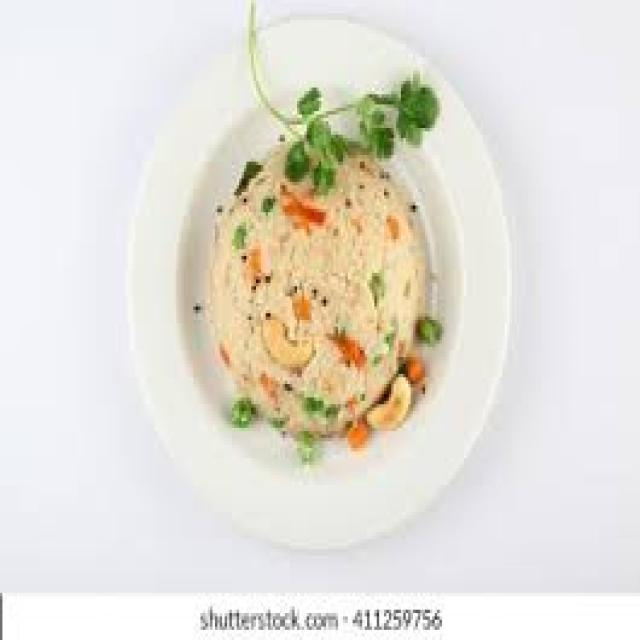UPMA: (208, 138, 423, 428)
